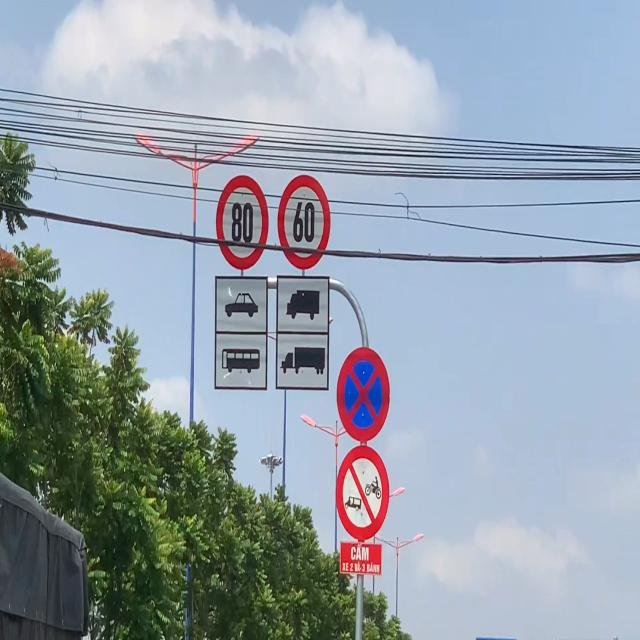Cam con lai: (336, 445, 390, 542)
Cam dung va do: (334, 343, 392, 445)
Toc do toi da: (215, 175, 269, 270), (278, 174, 330, 269)
